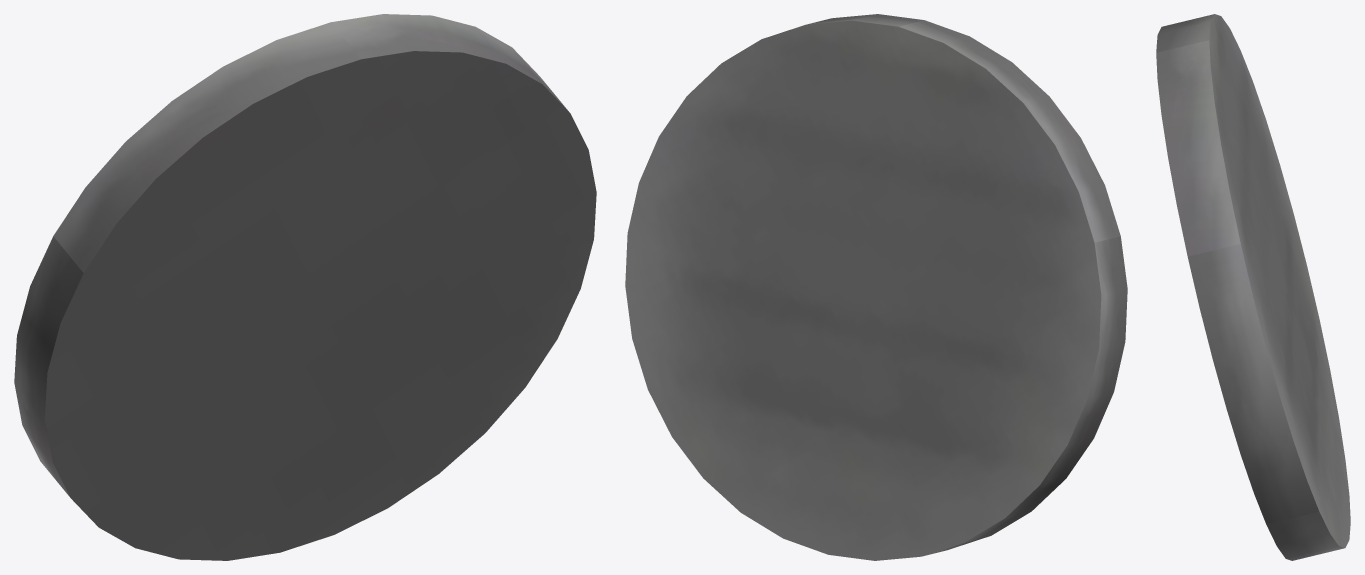
The model's file is cabinet__action_button_guide_0_0.glb.
3 renders of one model, left to right at view 1: azimuth 30°, elevation 25°; view 2: azimuth 150°, elevation 25°; view 3: azimuth 270°, elevation 25°, orthographic. The views are drawn at different scales.
Parts seen in each view (by area): view 1: geometry_0; view 2: geometry_0; view 3: geometry_0.
Boxes of the visible parts, x1,y1,x2,y2 form: geometry_0: (14,14,596,560); geometry_0: (625,14,1127,560); geometry_0: (1156,14,1350,560).
Bounding box in the file's own units: 0.04 × 0.0397 × 0.0141.
Materials: 1 (1 with a texture image).
